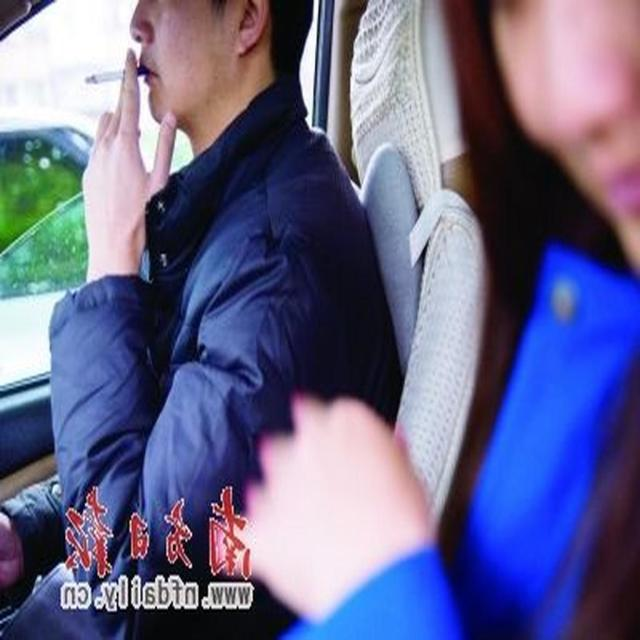smoking: (76, 0, 311, 268)
